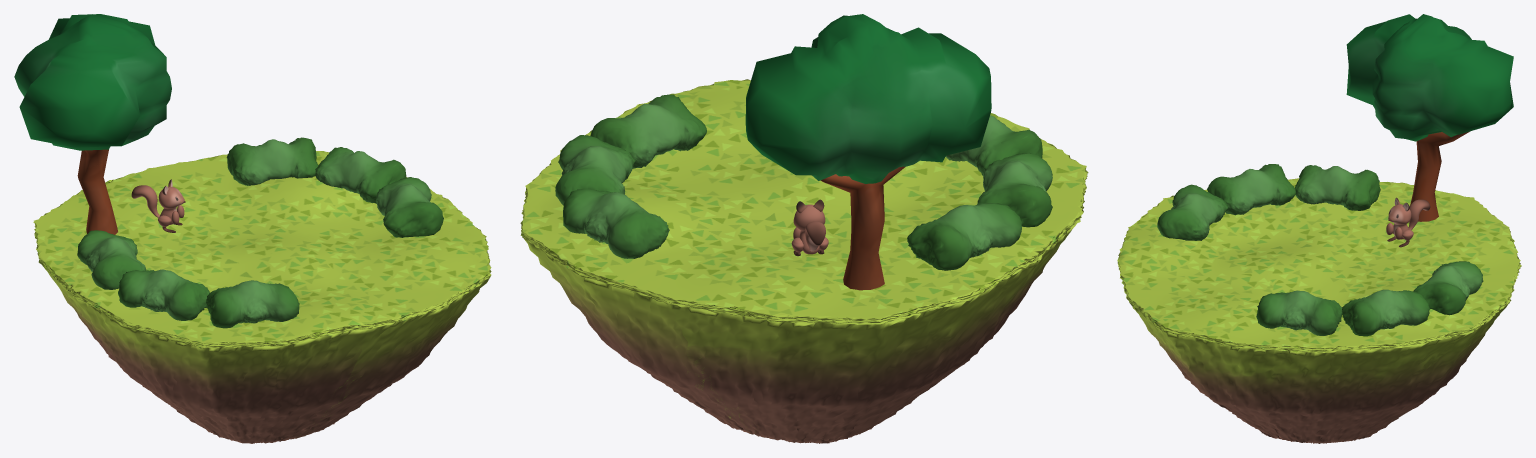
The model's file is Small_Sky_Island_1.fbx.
The picture shows the model from 3 angles, left to right: view 1: azimuth 30°, elevation 25°; view 2: azimuth 150°, elevation 25°; view 3: azimuth 270°, elevation 25°; orthographic projection. The views are drawn at different scales.
Visible parts, largest first — view 1: Cube, Cylinder.002, Cube.001, Cube.004, Cube.002, Cube.006, Cube.005, Cube.003, Cylinder.006; view 2: Cube, Cylinder.002, Cube.003, Cube.004, Cube.006, Cube.002, Cube.005, Cube.001, Cylinder.006; view 3: Cube, Cylinder.002, Cube.003, Cube.005, Cube.006, Cube.002, Cube.001, Cube.004, Cylinder.006.
Part boxes in pixels (x1,y1,x2,y2): Cube: (33,151,491,443); Cylinder.002: (14,14,171,234); Cube.001: (206,280,299,328); Cube.004: (226,137,318,185); Cube.002: (118,269,209,320); Cube.006: (375,177,443,237); Cube.005: (315,147,406,203); Cube.003: (77,230,146,289); Cylinder.006: (158,179,185,224); Cube: (520,79,1088,443); Cylinder.002: (745,14,991,290); Cube.003: (907,202,1022,270); Cube.004: (563,188,669,258); Cube.006: (590,94,706,168); Cube.002: (977,152,1052,227); Cube.005: (555,135,635,205); Cube.001: (945,115,1042,175); Cylinder.006: (793,199,825,254); Cube: (1117,178,1521,443); Cylinder.002: (1346,14,1513,221); Cube.003: (1295,165,1380,210); Cube.005: (1342,289,1429,336); Cube.006: (1256,290,1342,335); Cube.002: (1207,164,1295,215); Cube.001: (1157,184,1228,240); Cube.004: (1413,261,1483,315); Cylinder.006: (1386,197,1411,239).
Bounding box in the file's own units: 173515 × 171714 × 173791.
Materials: 9 (9 with a texture image).
